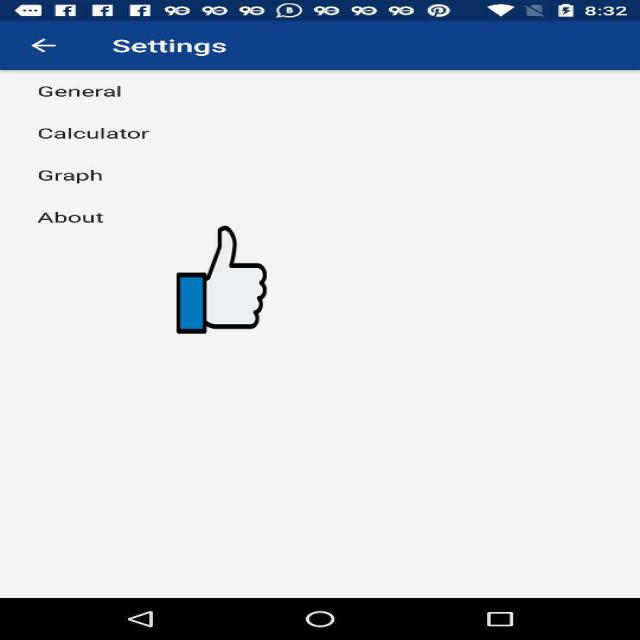privacy zuckering: (176, 223, 266, 336)
